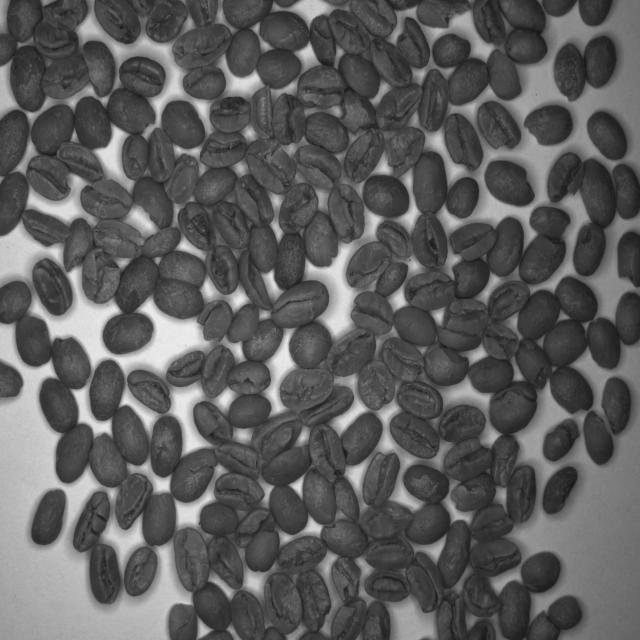bad: (244, 134, 296, 197), (172, 21, 233, 71), (270, 278, 330, 327), (169, 445, 219, 502), (172, 525, 212, 593), (488, 380, 538, 434), (518, 232, 567, 286), (263, 570, 303, 636), (31, 256, 74, 317), (406, 549, 445, 616), (326, 326, 378, 376), (444, 110, 484, 174), (106, 86, 156, 137), (483, 159, 535, 208), (388, 411, 440, 460), (250, 410, 304, 457), (79, 176, 134, 222), (326, 182, 366, 245), (278, 367, 334, 412), (236, 246, 274, 312), (72, 488, 110, 554), (292, 142, 342, 192), (374, 82, 424, 131), (344, 240, 393, 290), (307, 423, 347, 484), (160, 98, 206, 151), (233, 172, 275, 230), (369, 35, 414, 89), (340, 411, 384, 466), (81, 246, 122, 305), (131, 174, 174, 230), (56, 138, 106, 186), (296, 62, 346, 110), (114, 471, 154, 531), (86, 431, 128, 488), (476, 99, 522, 151), (442, 435, 494, 481), (296, 567, 332, 633), (40, 54, 90, 101), (92, 0, 142, 47), (360, 497, 414, 540), (495, 578, 532, 640), (446, 220, 498, 264), (299, 385, 356, 425), (92, 216, 145, 259), (362, 450, 401, 508), (423, 340, 470, 388), (278, 181, 319, 236), (127, 368, 173, 417), (379, 334, 424, 384), (522, 104, 574, 147), (551, 40, 587, 102), (384, 126, 426, 179), (546, 148, 585, 205), (412, 210, 449, 270), (88, 540, 121, 607), (26, 152, 71, 201), (514, 336, 554, 391), (550, 364, 594, 414), (318, 517, 368, 561), (344, 130, 386, 182), (404, 269, 456, 311), (503, 462, 538, 524), (402, 462, 450, 507), (262, 444, 312, 487), (418, 67, 450, 134), (176, 200, 217, 252), (305, 208, 339, 270), (328, 7, 371, 56), (338, 52, 381, 101), (447, 57, 490, 106), (81, 38, 116, 98), (21, 208, 71, 250), (200, 342, 235, 402), (192, 399, 234, 449), (350, 291, 395, 337), (469, 538, 522, 577), (118, 55, 166, 98), (162, 152, 200, 206), (572, 220, 607, 278), (213, 439, 260, 482), (396, 378, 444, 420), (211, 200, 251, 250), (276, 534, 327, 573), (600, 375, 632, 437), (145, 0, 189, 45), (486, 279, 531, 323), (586, 316, 622, 371), (213, 472, 265, 510), (450, 473, 497, 515), (468, 501, 515, 543), (396, 14, 431, 70), (438, 404, 487, 444), (358, 360, 397, 410), (486, 48, 522, 102), (204, 243, 240, 297), (273, 90, 307, 147), (362, 535, 414, 572), (349, 0, 397, 40), (610, 159, 640, 223), (466, 353, 514, 393), (488, 430, 520, 490), (198, 130, 248, 168), (123, 546, 158, 600), (582, 408, 614, 467), (542, 464, 579, 515), (443, 296, 490, 336), (226, 358, 272, 398), (229, 589, 265, 640), (233, 506, 276, 548), (62, 216, 94, 272), (338, 89, 376, 136), (542, 416, 580, 463), (32, 22, 80, 59), (470, 0, 507, 48), (461, 574, 501, 618), (435, 589, 469, 640), (451, 256, 490, 300), (330, 554, 363, 606), (196, 298, 234, 343), (181, 64, 227, 101), (374, 217, 414, 259), (163, 348, 205, 388), (364, 569, 412, 604), (330, 597, 369, 640), (208, 96, 252, 134), (244, 530, 280, 576), (308, 11, 337, 68), (147, 125, 175, 184), (431, 32, 473, 70), (248, 84, 276, 140), (482, 321, 520, 362), (529, 203, 571, 240), (615, 228, 640, 290), (42, 0, 89, 32), (120, 131, 148, 182), (332, 475, 361, 524), (226, 302, 259, 344), (373, 260, 409, 298), (141, 225, 182, 258), (362, 599, 393, 640), (166, 599, 197, 640), (415, 0, 455, 29), (185, 0, 219, 27)
good: (579, 156, 617, 229), (113, 256, 159, 314), (52, 420, 94, 483), (9, 44, 47, 113), (485, 214, 525, 278), (411, 147, 448, 215), (111, 403, 150, 467), (436, 518, 471, 589), (38, 376, 80, 434), (87, 358, 125, 422), (30, 104, 74, 158), (153, 276, 205, 321), (258, 9, 311, 53), (29, 487, 67, 548), (50, 334, 91, 390), (516, 288, 560, 340), (102, 311, 154, 355), (288, 319, 332, 370), (586, 108, 628, 161), (149, 414, 183, 479), (552, 275, 598, 323), (206, 534, 244, 591), (363, 173, 410, 219), (542, 319, 588, 366), (0, 170, 30, 242), (268, 484, 309, 536), (303, 110, 349, 156), (157, 247, 206, 290), (192, 580, 232, 632), (256, 47, 303, 91), (391, 303, 438, 347), (15, 314, 53, 368), (302, 467, 336, 527), (0, 107, 29, 177), (141, 489, 176, 547), (405, 502, 451, 546), (274, 230, 307, 290), (518, 550, 562, 594), (194, 165, 238, 208), (240, 317, 284, 360), (584, 34, 618, 89), (226, 28, 262, 79), (504, 26, 549, 66), (498, 0, 548, 36), (6, 0, 44, 44), (228, 393, 273, 429), (248, 223, 279, 274), (0, 279, 33, 325), (222, 0, 274, 29), (614, 289, 640, 347), (445, 175, 480, 218), (547, 593, 584, 631), (200, 502, 238, 537), (526, 607, 562, 640), (0, 357, 25, 403), (577, 0, 611, 27), (539, 0, 578, 19), (467, 617, 497, 640), (0, 31, 18, 68)
